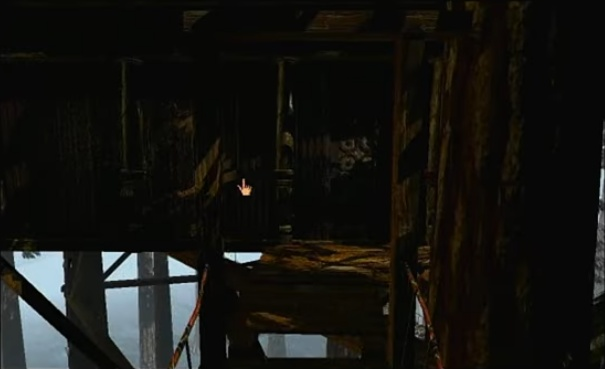Pointer: (234, 174, 256, 198)
